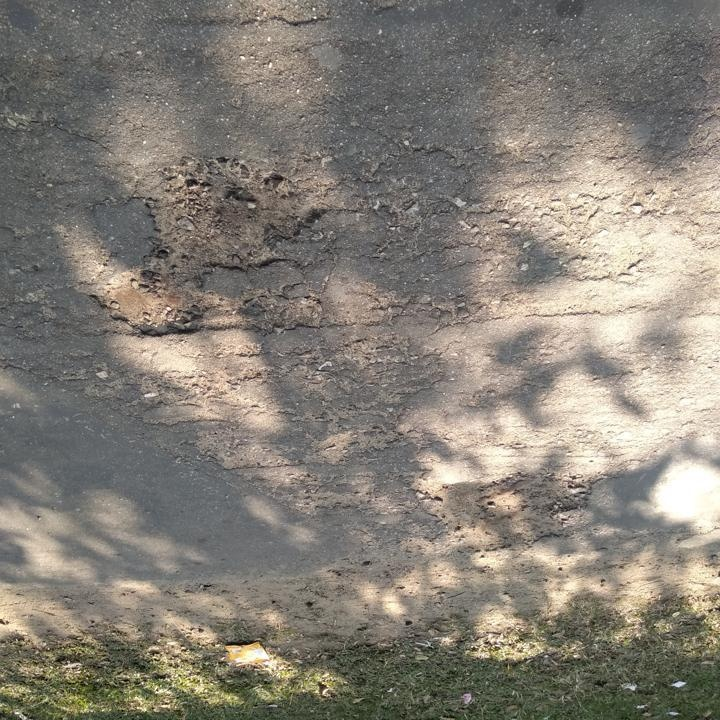pothole: (139, 154, 324, 276), (408, 469, 601, 556), (89, 269, 211, 343)
